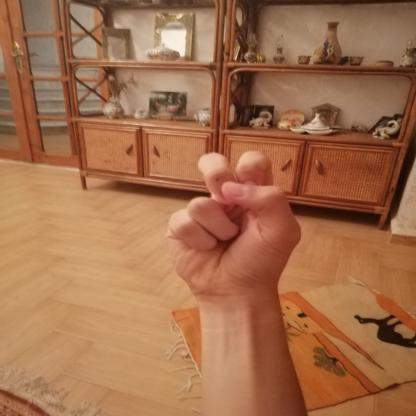QAAF: (148, 140, 320, 318)
